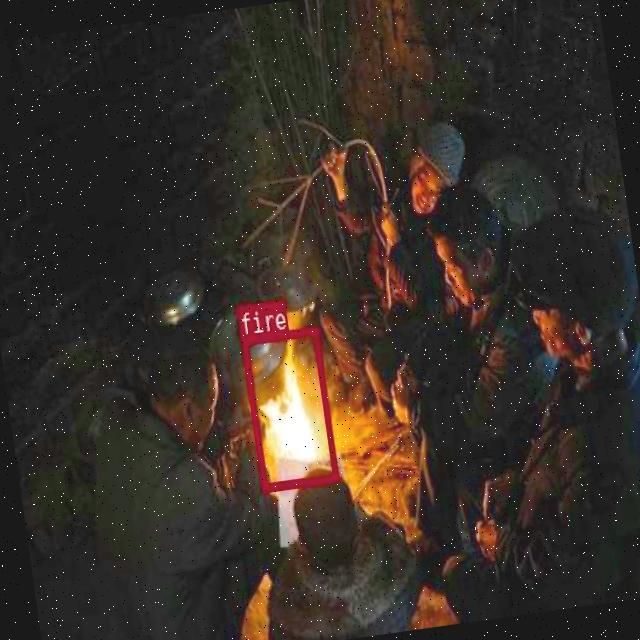fire: (240, 326, 338, 491)
